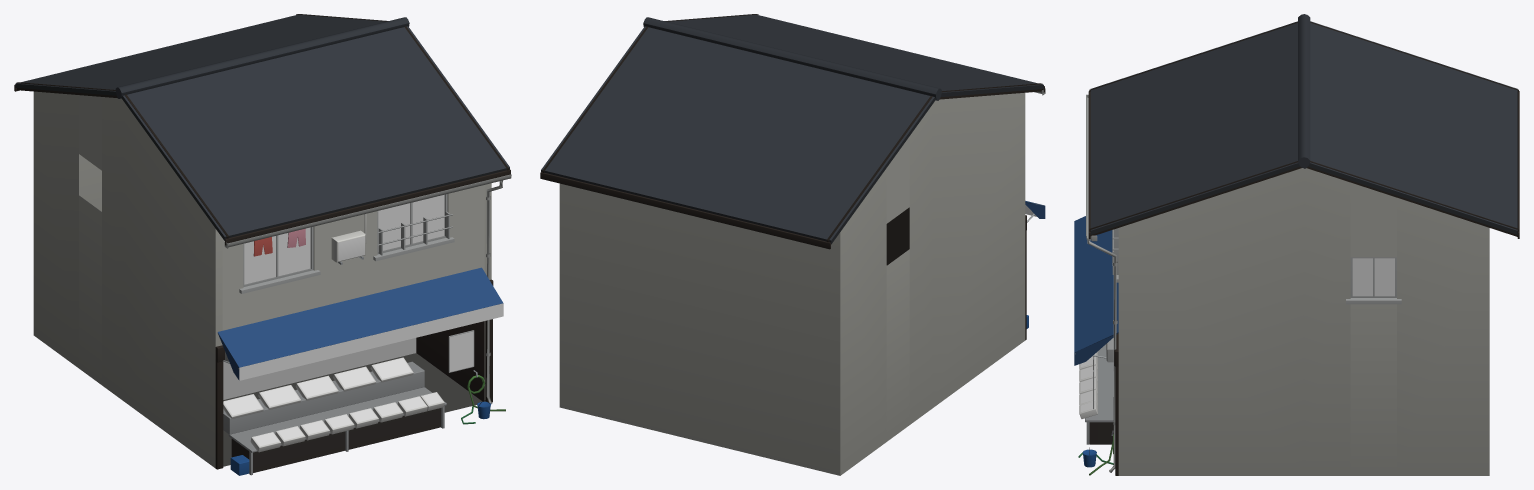
Rendered from ShopFishKM.fbx.
The picture shows the model from 3 angles, left to right: view 1: azimuth 30°, elevation 25°; view 2: azimuth 150°, elevation 25°; view 3: azimuth 270°, elevation 25°; orthographic projection.
Parts seen in each view (by area): view 1: ShopFishKM; view 2: ShopFishKM; view 3: ShopFishKM.
Part boxes in pixels (x1,y1,x2,y2): ShopFishKM: (14,14,511,475); ShopFishKM: (540,14,1045,475); ShopFishKM: (1074,14,1519,475).
Bounding box in the file's own units: 7.3 × 7.65 × 9.6.
